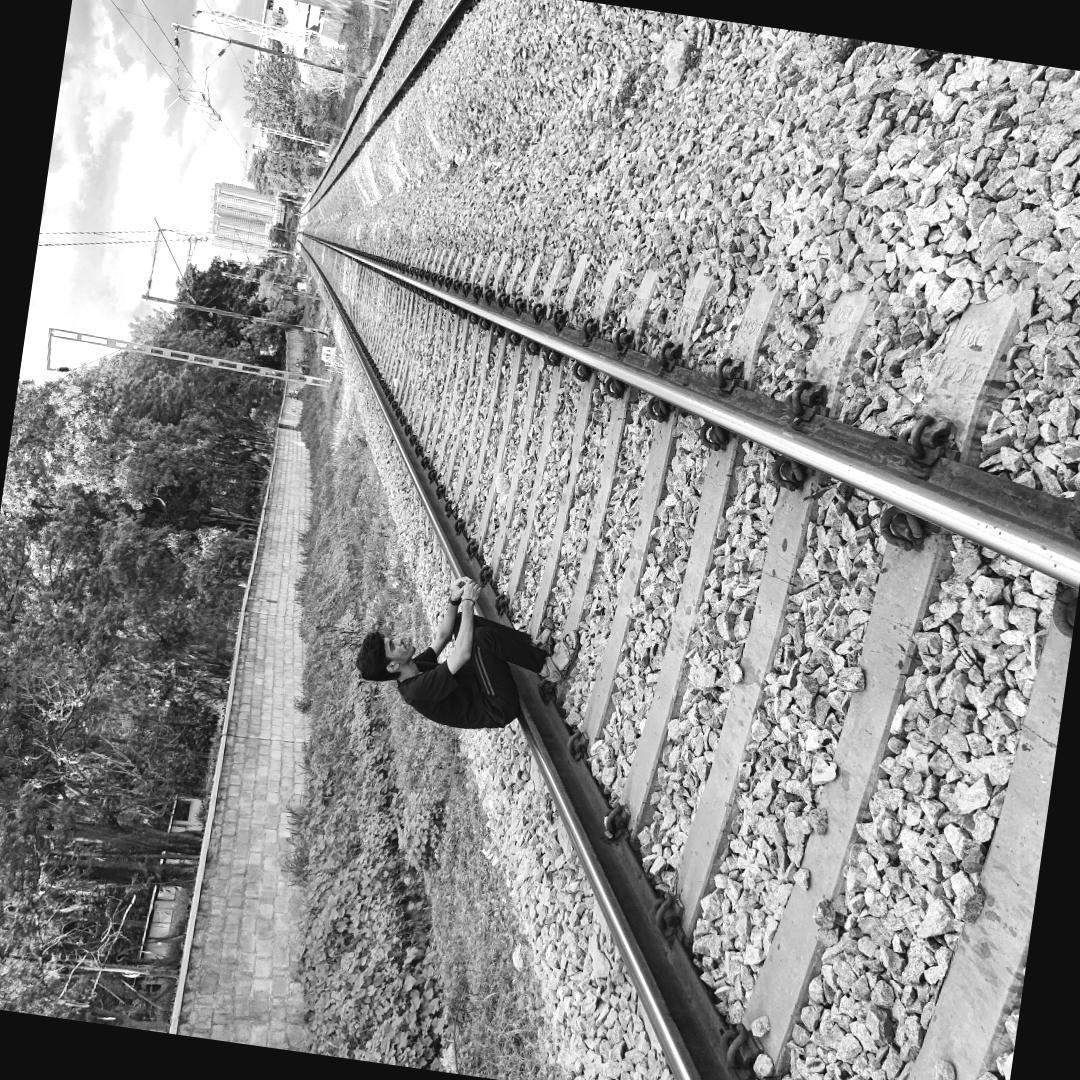sitting: (340, 573, 588, 737)
